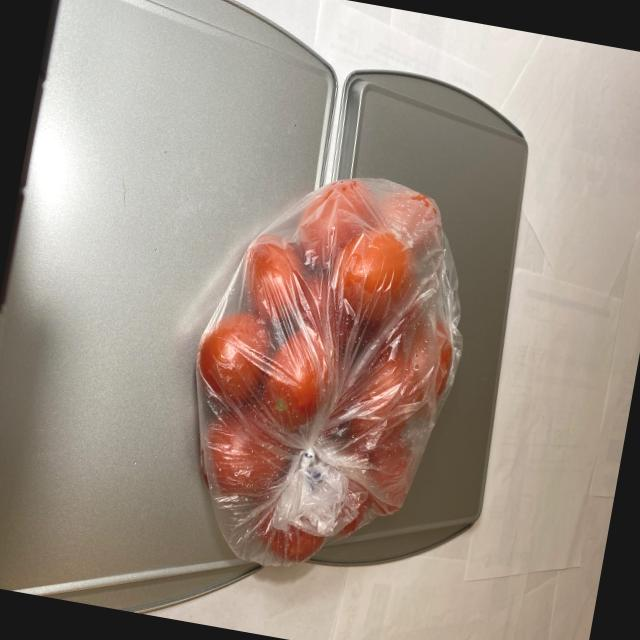tomato: (168, 151, 471, 595)
